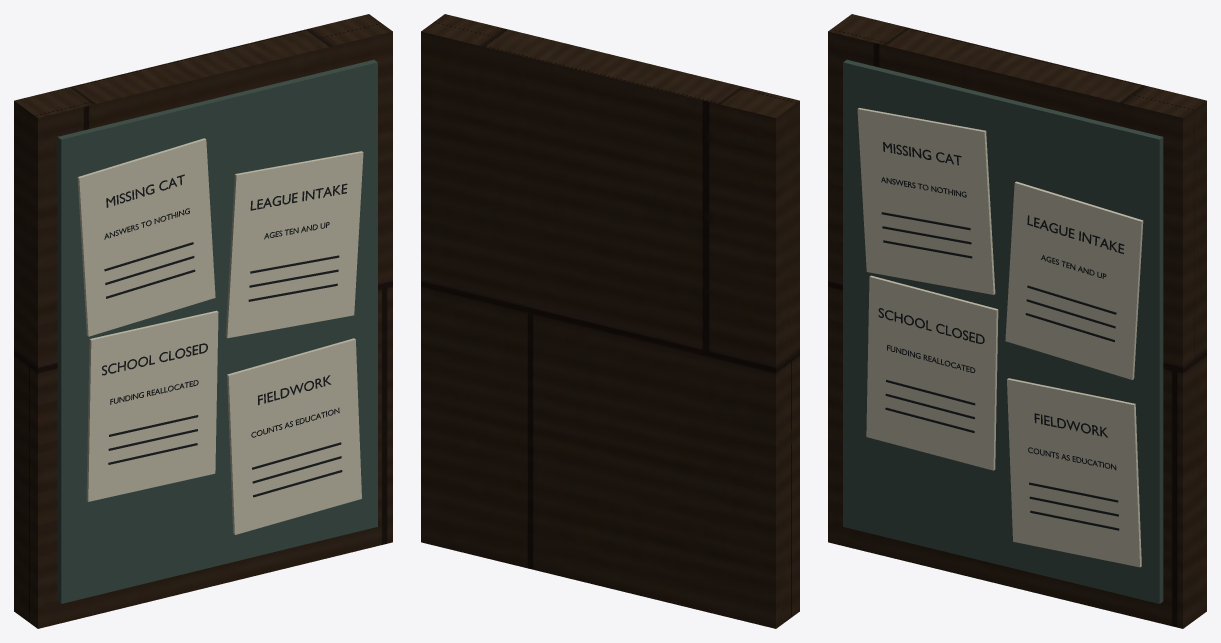
Rendered from notice-board.glb.
The picture shows the model from 3 angles, left to right: view 1: azimuth 30°, elevation 25°; view 2: azimuth 150°, elevation 25°; view 3: azimuth 330°, elevation 25°; orthographic projection.
Parts seen in each view (by area): view 1: Backing, Frame, Paper.001, Paper, Paper.003, Paper.002, Heading.002, Heading.001; view 2: Frame; view 3: Backing, Frame, Paper.003, Paper, Paper.001, Paper.002, Heading.002, Heading.001.
Boxes of the visible parts, x1,y1,x2,y2 form: Backing: (57, 59, 377, 603); Frame: (14, 14, 392, 628); Paper.001: (225, 151, 363, 338); Paper: (77, 138, 215, 336); Paper.003: (227, 338, 361, 534); Paper.002: (86, 310, 218, 501); Heading.002: (102, 343, 207, 375); Heading.001: (250, 183, 347, 210); Frame: (421, 14, 799, 628); Backing: (843, 59, 1163, 603); Frame: (828, 14, 1206, 628); Paper.003: (1007, 378, 1141, 567); Paper: (857, 108, 995, 294); Paper.001: (1005, 181, 1143, 379); Paper.002: (866, 275, 998, 470); Heading.002: (878, 308, 984, 343); Heading.001: (1027, 215, 1124, 253).
Size of the model in its own units: 1.2 by 1.65 by 0.1797.
Materials: 4 (1 with a texture image).
